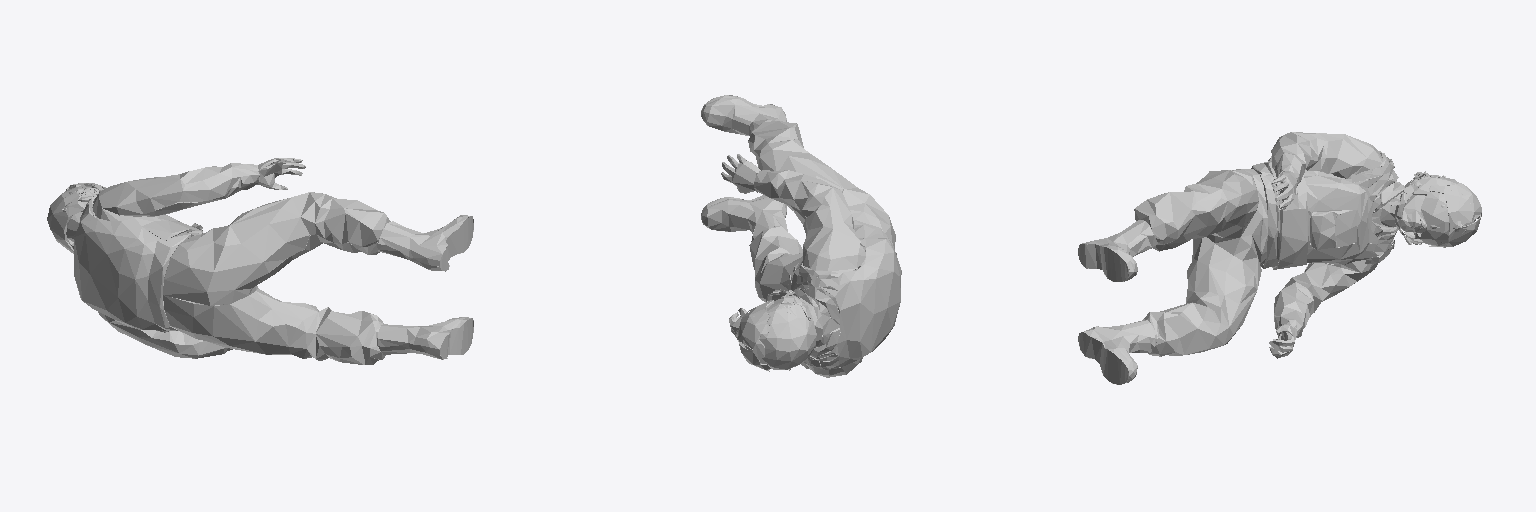
The model's file is HeliPliot.obj.
3 renders of one model, left to right at view 1: azimuth 30°, elevation 25°; view 2: azimuth 150°, elevation 25°; view 3: azimuth 270°, elevation 25°, orthographic.
Visible parts, largest first — view 1: pilot; view 2: pilot; view 3: pilot.
Boxes of the visible parts, x1,y1,x2,y2 form: pilot: [47, 158, 473, 364]; pilot: [701, 95, 901, 377]; pilot: [1078, 132, 1481, 384].
Bounding box in the file's own units: 1.15 × 0.7116 × 1.41.